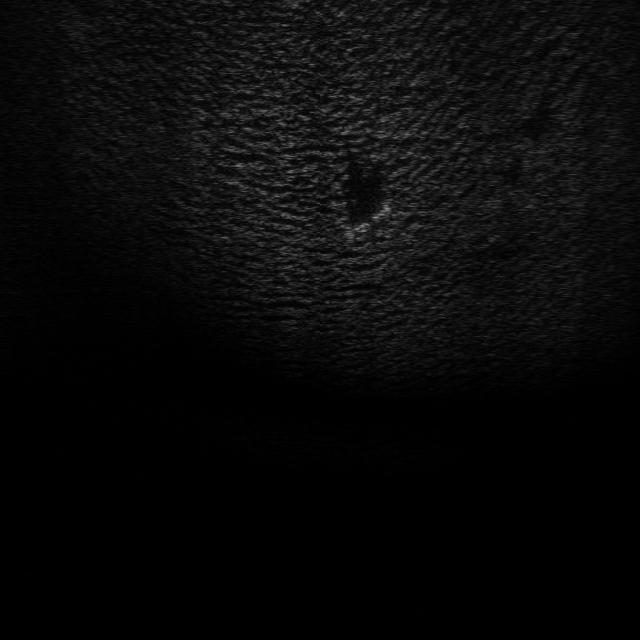plane: (338, 198, 396, 246)
